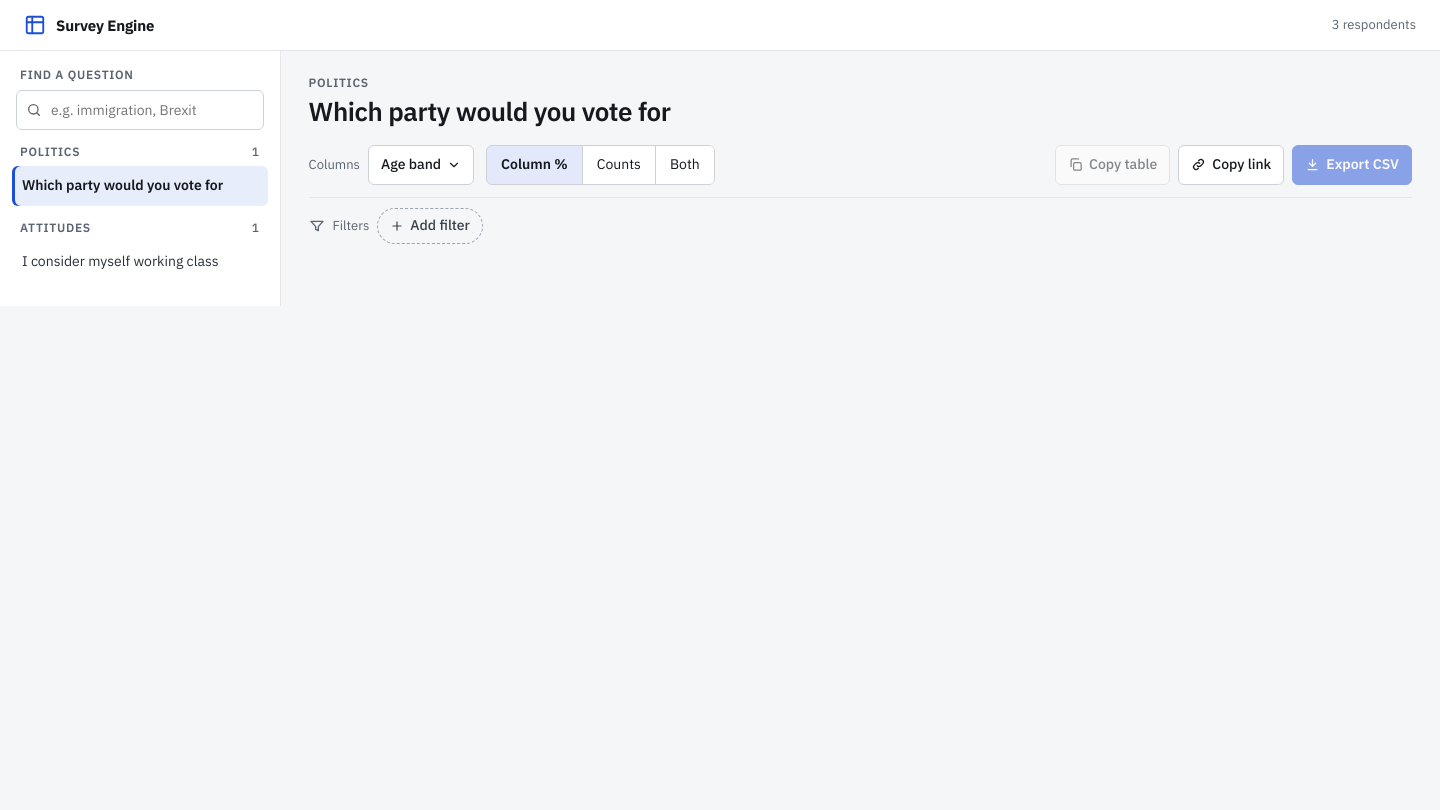
it: a slow response for an old question does not replace a newer one
Click the button "I consider myself working class" at [140, 261], box [12,241,268,281]
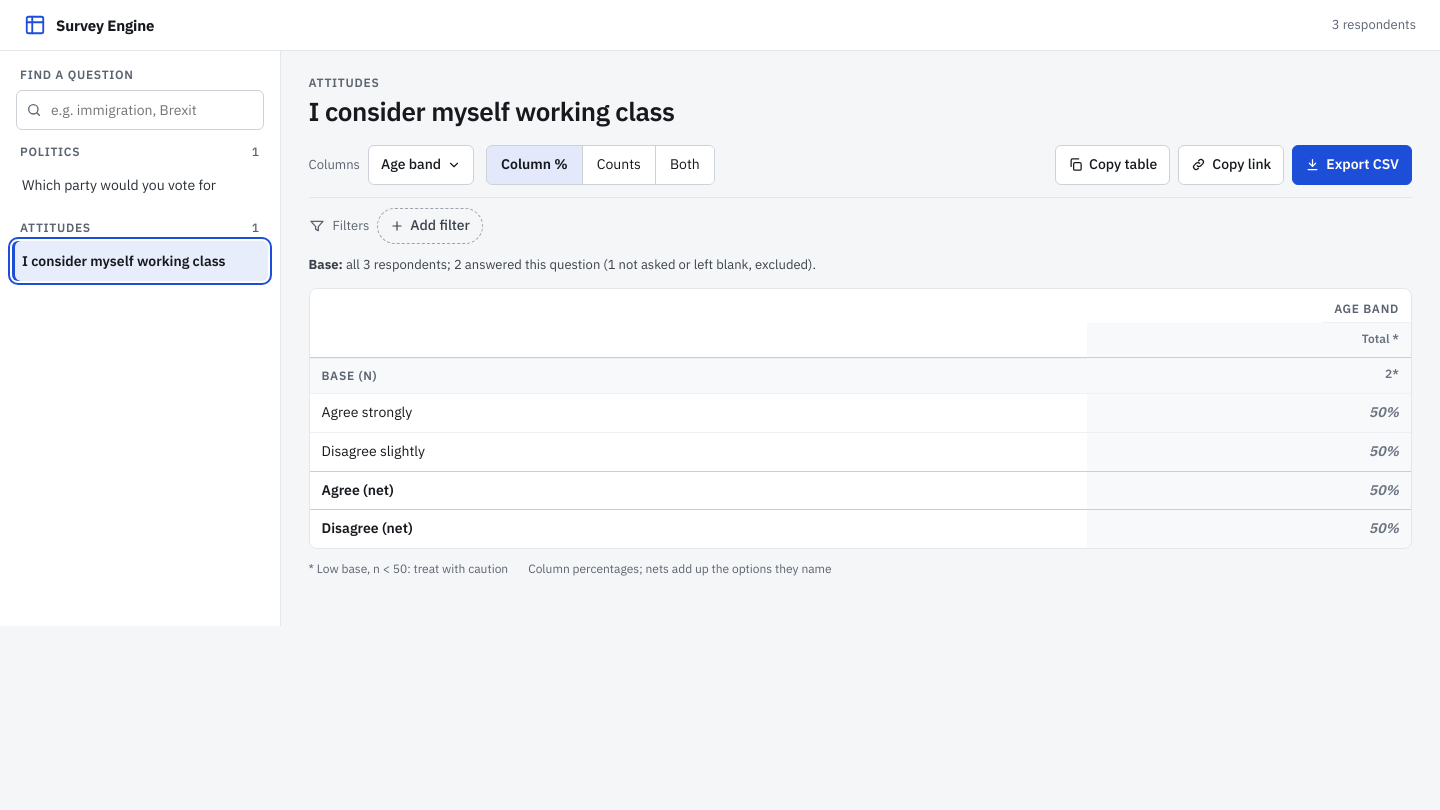
Expected: the text "Agree strongly" is shown, [310,393,1087,432]
